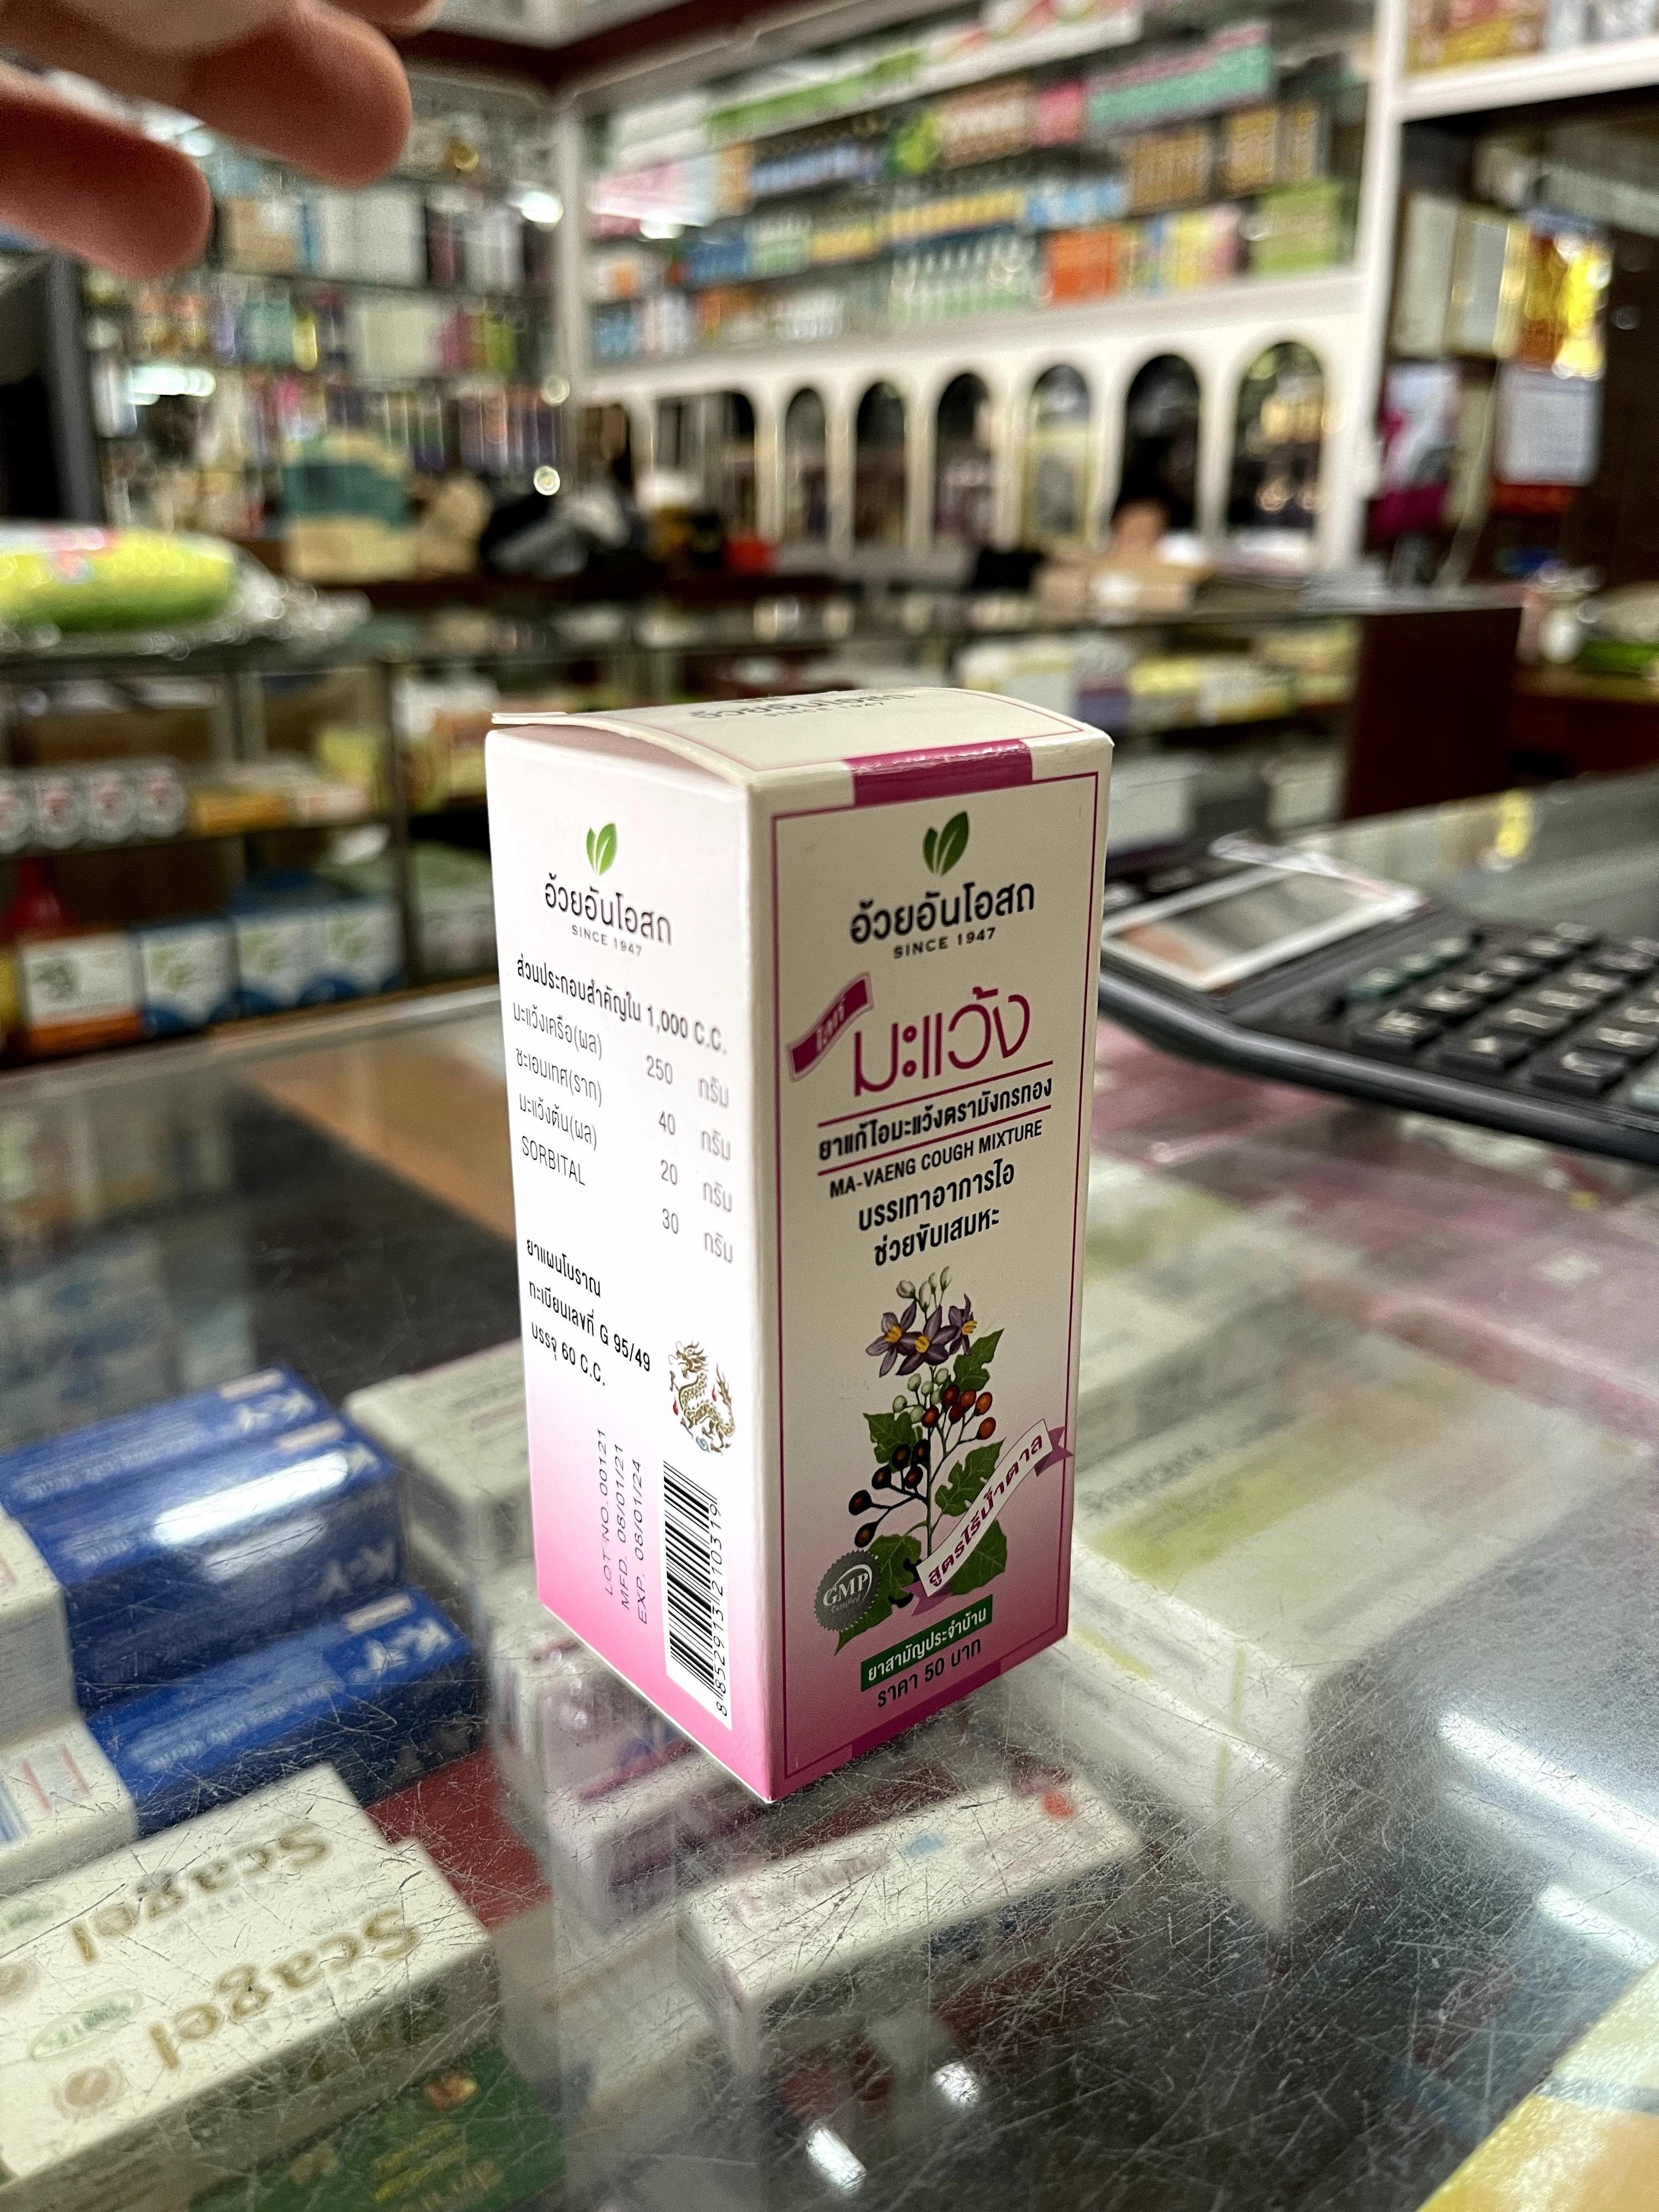Ma-Vaeng_Light: (483, 683, 1114, 1794)
